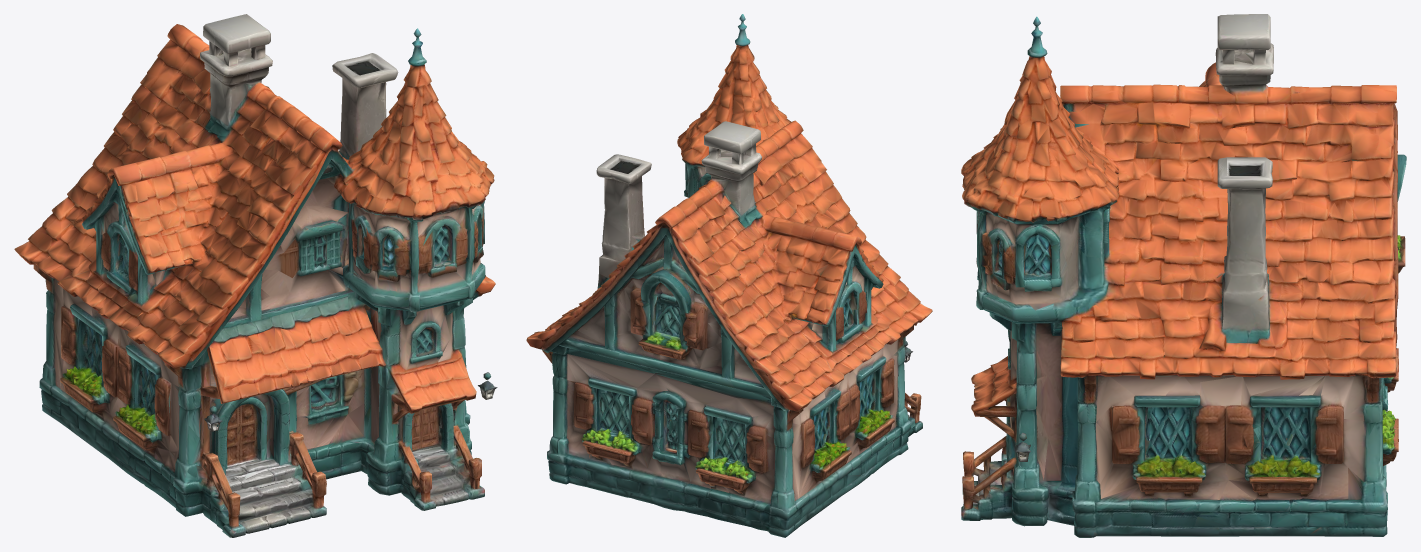
File: Ember_Tiled_Turret_Ho.glb
3 renders of one model, left to right at view 1: azimuth 30°, elevation 25°; view 2: azimuth 150°, elevation 25°; view 3: azimuth 270°, elevation 25°, orthographic. The views are drawn at different scales.
Visible parts, largest first — view 1: Ember_Tiled_Turret_Ho; view 2: Ember_Tiled_Turret_Ho; view 3: Ember_Tiled_Turret_Ho.
Boxes of the visible parts, <box> form: Ember_Tiled_Turret_Ho: <box>14,14,497,537</box>; Ember_Tiled_Turret_Ho: <box>526,14,932,537</box>; Ember_Tiled_Turret_Ho: <box>961,14,1406,537</box>.
Bounding box in the file's own units: 1.45 × 1.9 × 1.58.
1 material, 1 textured.
